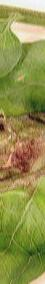Tomato leaf late blight: (0, 115, 45, 284)
